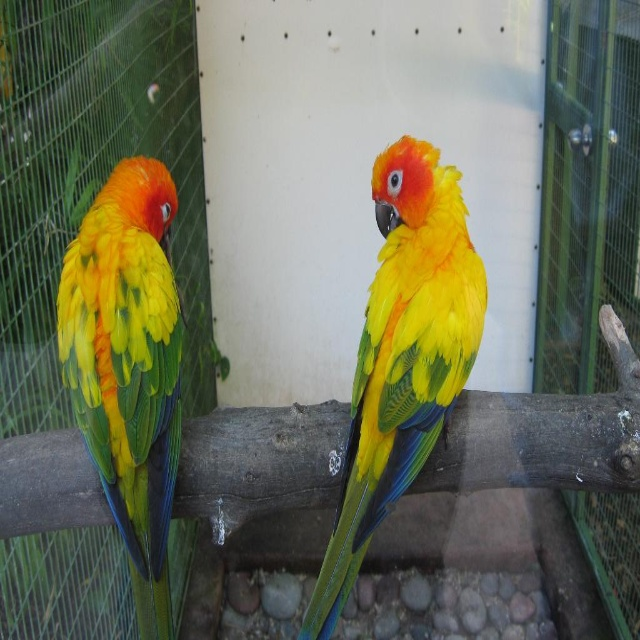Parrot: (298, 134, 487, 639), (53, 158, 186, 637)
